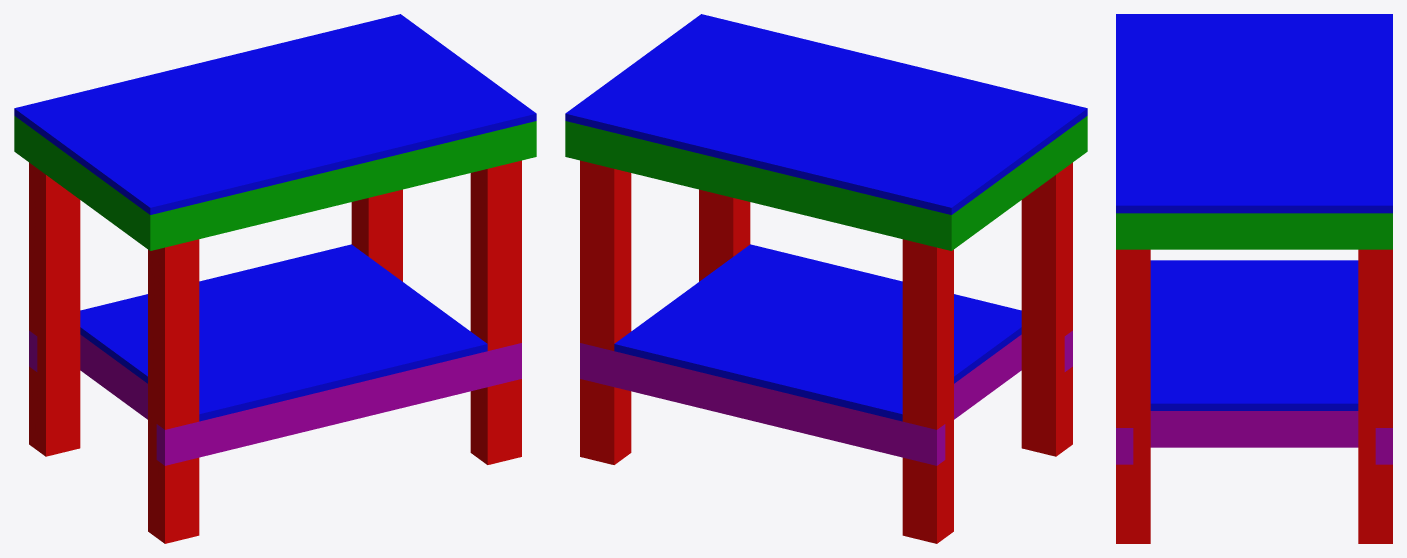
The model's file is result.glb.
The picture shows the model from 3 angles, left to right: view 1: azimuth 30°, elevation 25°; view 2: azimuth 150°, elevation 25°; view 3: azimuth 270°, elevation 25°; orthographic projection.
Visible parts, largest first — view 1: f6bd5827-5aa6-4c20-a581-8edcb00a45dc__Box, 0bd4c61d-3197-4394-bc3d-f01112621ac2__Box_1, 4c4dc133-eef8-423b-a5c0-0f1b9ba3f329__top length, e7c0374a-a06b-4ba4-b612-48e0e01a2d56__along length, 060fdd3f-6a7e-4843-a26b-c5ed8d1971f5__undefined, a4ff9dc1-7406-4d31-98d3-f3a6ff663a48__leg mid, 5afa4612-dbe0-4409-9573-1cafef7c48ff__undefined, 499b854a-b9d7-443f-8ce6-0242da0fea47__top depth, 551140e1-996d-4b53-a809-0cd1c3ad584c__leg bottom, b3cc2c66-274e-41d4-b626-2a724f913a3a__undefined, 2a956bfa-ce10-440a-bea3-13cd1ed12084__undefined, 1afe9db3-ca52-48d4-861d-c0dd84a67c3b__leg long (+4 smaller); view 2: f6bd5827-5aa6-4c20-a581-8edcb00a45dc__Box, 0bd4c61d-3197-4394-bc3d-f01112621ac2__Box_1, 94536e9d-3d5f-4574-a321-b1dd30dfd984__undefined, ce5cd2e9-1a6e-4229-9009-993bc0d77049__undefined, 1afe9db3-ca52-48d4-861d-c0dd84a67c3b__leg long, bd175667-b365-4608-b648-20d022d108cf__undefined, b32f6a06-6c3b-4aae-a5bb-a984c527153a__undefined, 499b854a-b9d7-443f-8ce6-0242da0fea47__top depth, 8c16be13-46f9-4fb2-a354-1956387e7cb1__undefined, 44ebc91d-cd5c-4a48-b5c4-c9f50dea3597__undefined, 40cc2142-7b71-43f9-9006-66511ce93a60__undefined, 060fdd3f-6a7e-4843-a26b-c5ed8d1971f5__undefined (+4 smaller); view 3: f6bd5827-5aa6-4c20-a581-8edcb00a45dc__Box, 0bd4c61d-3197-4394-bc3d-f01112621ac2__Box_1, 1c6ec53b-3aee-4936-872c-06eba37d8aae__undefined, 274d003f-b5bd-4535-99a7-b0347e4f36a5__undefined, 40cc2142-7b71-43f9-9006-66511ce93a60__undefined, 2a956bfa-ce10-440a-bea3-13cd1ed12084__undefined, 5afa4612-dbe0-4409-9573-1cafef7c48ff__undefined, b32f6a06-6c3b-4aae-a5bb-a984c527153a__undefined, b3cc2c66-274e-41d4-b626-2a724f913a3a__undefined, 44ebc91d-cd5c-4a48-b5c4-c9f50dea3597__undefined, 4c4dc133-eef8-423b-a5c0-0f1b9ba3f329__top length, 94536e9d-3d5f-4574-a321-b1dd30dfd984__undefined (+2 smaller).
Part boxes in pixels (<box>): f6bd5827-5aa6-4c20-a581-8edcb00a45dc__Box: <box>14,14,536,214</box>; 0bd4c61d-3197-4394-bc3d-f01112621ac2__Box_1: <box>80,244,487,421</box>; 4c4dc133-eef8-423b-a5c0-0f1b9ba3f329__top length: <box>142,121,536,250</box>; e7c0374a-a06b-4ba4-b612-48e0e01a2d56__along length: <box>156,343,521,465</box>; 060fdd3f-6a7e-4843-a26b-c5ed8d1971f5__undefined: <box>37,168,80,456</box>; a4ff9dc1-7406-4d31-98d3-f3a6ff663a48__leg mid: <box>156,239,199,429</box>; 5afa4612-dbe0-4409-9573-1cafef7c48ff__undefined: <box>479,160,521,350</box>; 499b854a-b9d7-443f-8ce6-0242da0fea47__top depth: <box>22,122,141,244</box>; 551140e1-996d-4b53-a809-0cd1c3ad584c__leg bottom: <box>156,457,199,543</box>; b3cc2c66-274e-41d4-b626-2a724f913a3a__undefined: <box>479,379,521,464</box>; 2a956bfa-ce10-440a-bea3-13cd1ed12084__undefined: <box>360,189,402,281</box>; 1afe9db3-ca52-48d4-861d-c0dd84a67c3b__leg long: <box>148,249,156,537</box>; f6bd5827-5aa6-4c20-a581-8edcb00a45dc__Box: <box>565,14,1087,214</box>; 0bd4c61d-3197-4394-bc3d-f01112621ac2__Box_1: <box>614,244,1021,421</box>; 94536e9d-3d5f-4574-a321-b1dd30dfd984__undefined: <box>565,121,959,250</box>; ce5cd2e9-1a6e-4229-9009-993bc0d77049__undefined: <box>580,343,945,465</box>; 1afe9db3-ca52-48d4-861d-c0dd84a67c3b__leg long: <box>1021,168,1064,456</box>; bd175667-b365-4608-b648-20d022d108cf__undefined: <box>902,239,945,429</box>; b32f6a06-6c3b-4aae-a5bb-a984c527153a__undefined: <box>580,160,622,350</box>; 499b854a-b9d7-443f-8ce6-0242da0fea47__top depth: <box>960,122,1079,244</box>; 8c16be13-46f9-4fb2-a354-1956387e7cb1__undefined: <box>902,457,945,543</box>; 44ebc91d-cd5c-4a48-b5c4-c9f50dea3597__undefined: <box>580,379,622,464</box>; 40cc2142-7b71-43f9-9006-66511ce93a60__undefined: <box>699,189,741,281</box>; 060fdd3f-6a7e-4843-a26b-c5ed8d1971f5__undefined: <box>945,249,953,537</box>; f6bd5827-5aa6-4c20-a581-8edcb00a45dc__Box: <box>1116,14,1392,213</box>; 0bd4c61d-3197-4394-bc3d-f01112621ac2__Box_1: <box>1150,260,1358,410</box>; 1c6ec53b-3aee-4936-872c-06eba37d8aae__undefined: <box>1133,213,1375,249</box>; 274d003f-b5bd-4535-99a7-b0347e4f36a5__undefined: <box>1150,411,1358,447</box>; 40cc2142-7b71-43f9-9006-66511ce93a60__undefined: <box>1133,249,1150,543</box>; 2a956bfa-ce10-440a-bea3-13cd1ed12084__undefined: <box>1358,249,1375,543</box>; 5afa4612-dbe0-4409-9573-1cafef7c48ff__undefined: <box>1116,249,1133,427</box>; b32f6a06-6c3b-4aae-a5bb-a984c527153a__undefined: <box>1375,249,1392,427</box>; b3cc2c66-274e-41d4-b626-2a724f913a3a__undefined: <box>1116,464,1133,543</box>; 44ebc91d-cd5c-4a48-b5c4-c9f50dea3597__undefined: <box>1375,464,1392,543</box>; 4c4dc133-eef8-423b-a5c0-0f1b9ba3f329__top length: <box>1116,213,1133,249</box>; 94536e9d-3d5f-4574-a321-b1dd30dfd984__undefined: <box>1375,213,1392,249</box>.
Size of the model in its own units: 1000 by 840 by 610.
